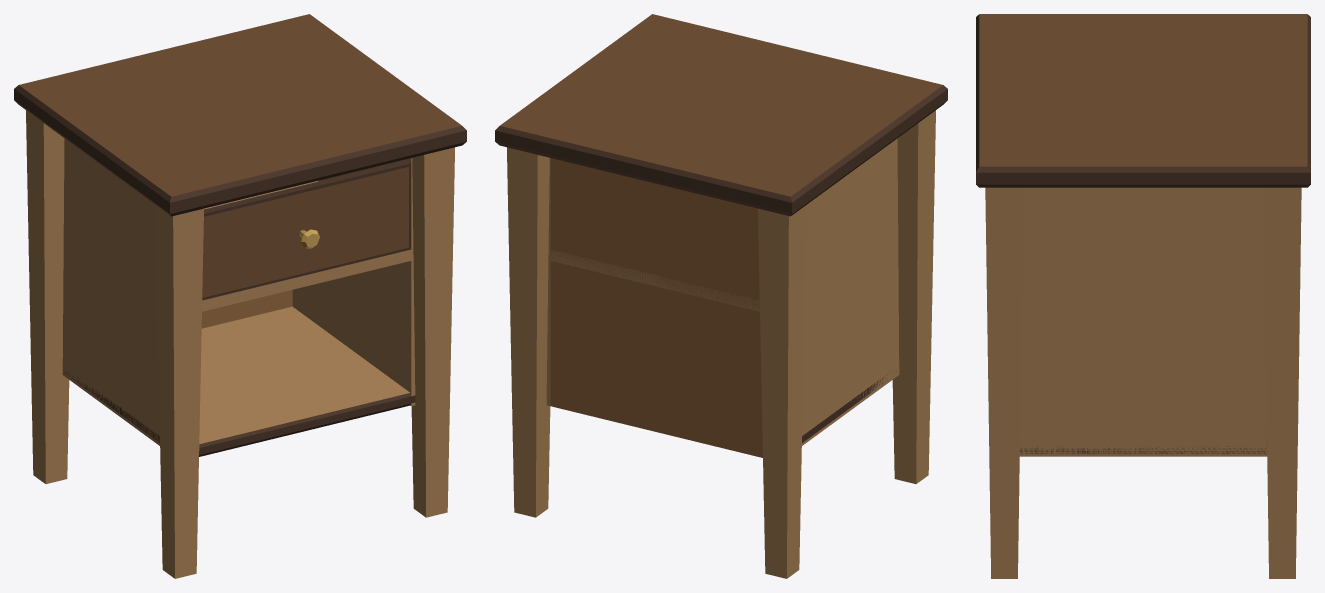
File: FN_Table_Side.obj
3 views of the same model, side by side, from view 1: azimuth 30°, elevation 25°; view 2: azimuth 150°, elevation 25°; view 3: azimuth 270°, elevation 25° (orthographic). The views are drawn at different scales.
Parts seen in each view (by area): view 1: FN_Table_Side; view 2: FN_Table_Side; view 3: FN_Table_Side.
Part boxes in pixels (left/top/right/bottom): FN_Table_Side: left=14, top=14, right=466, bottom=578; FN_Table_Side: left=495, top=14, right=947, bottom=578; FN_Table_Side: left=976, top=14, right=1310, bottom=578.
Bounding box in the file's own units: 0.44 × 0.55 × 0.4.
Materials: 1 (1 with a texture image).
